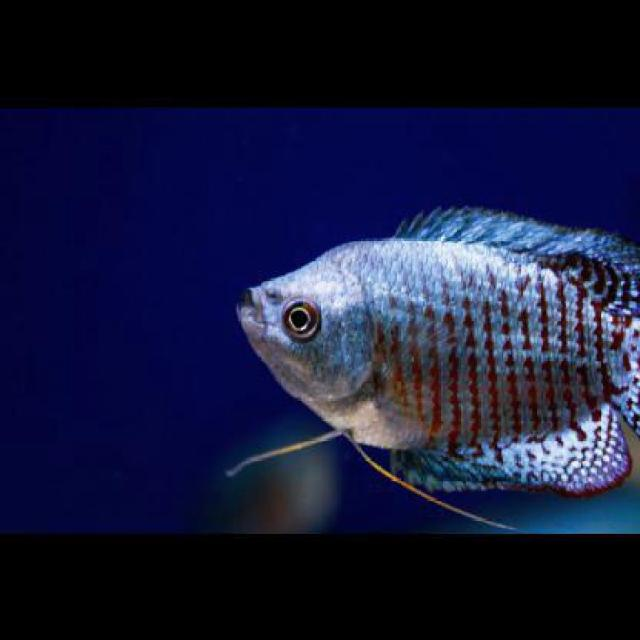Gourami: (240, 200, 638, 500)
